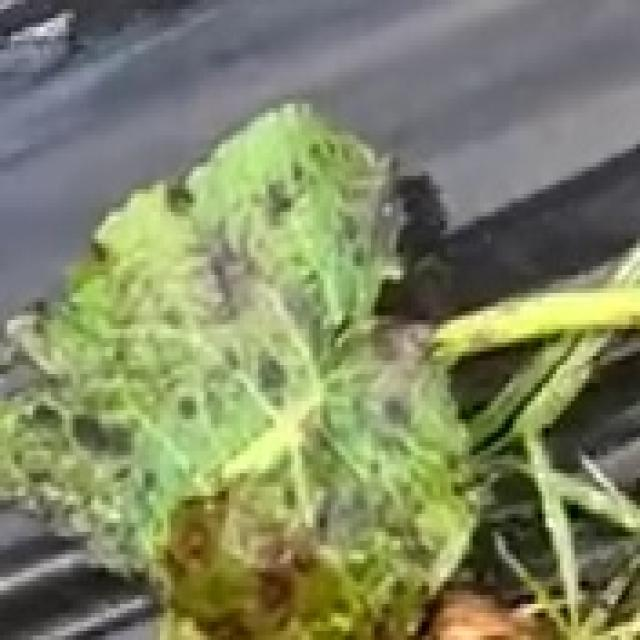organic waste: (0, 120, 538, 628)
